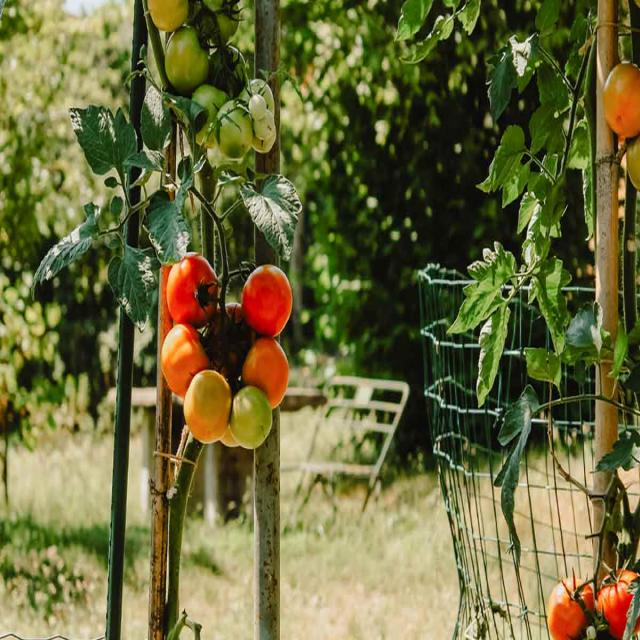kirmizi: (238, 260, 306, 350)
yesil: (137, 0, 284, 178), (233, 380, 275, 460)
